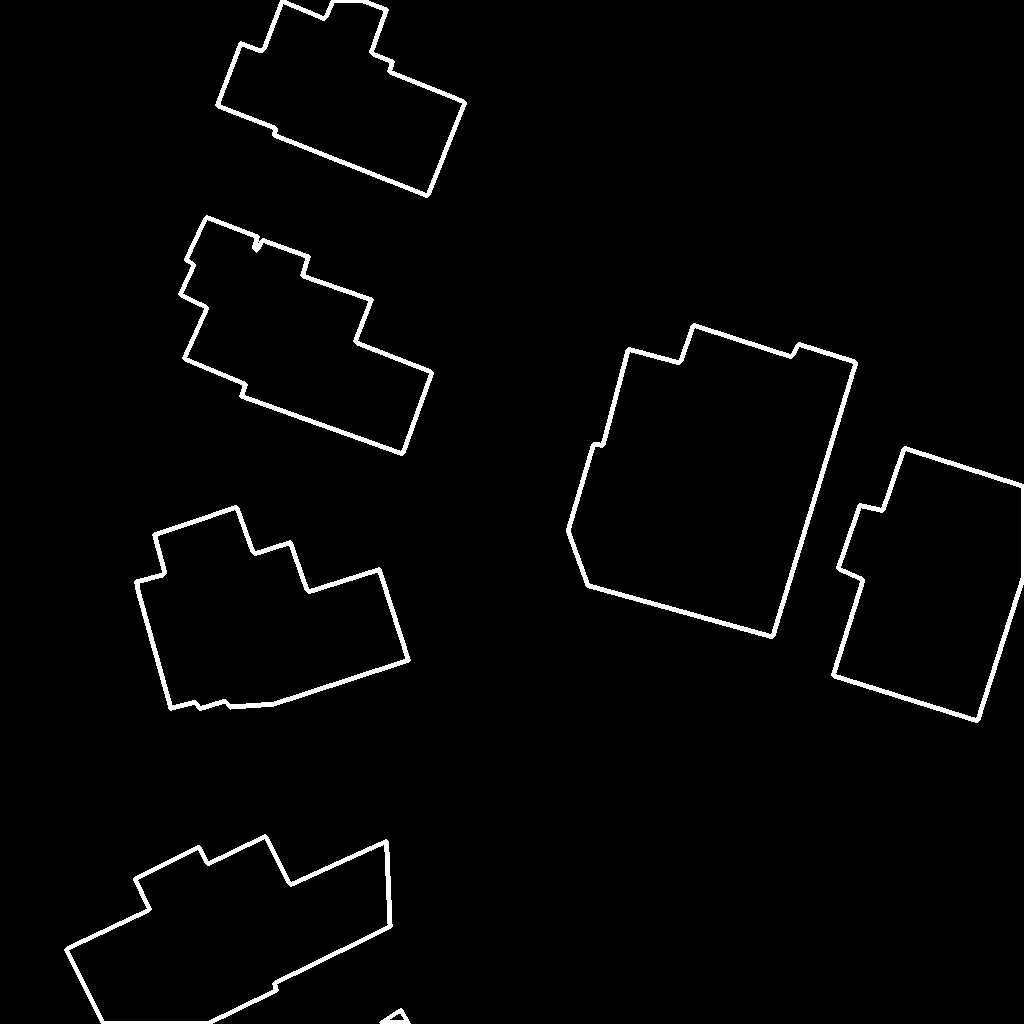building: (568, 325, 857, 638), (66, 836, 391, 1024), (180, 217, 433, 455), (136, 507, 410, 710), (833, 448, 1024, 722), (217, 0, 466, 197), (381, 1010, 410, 1024), (614, 0, 618, 2)
